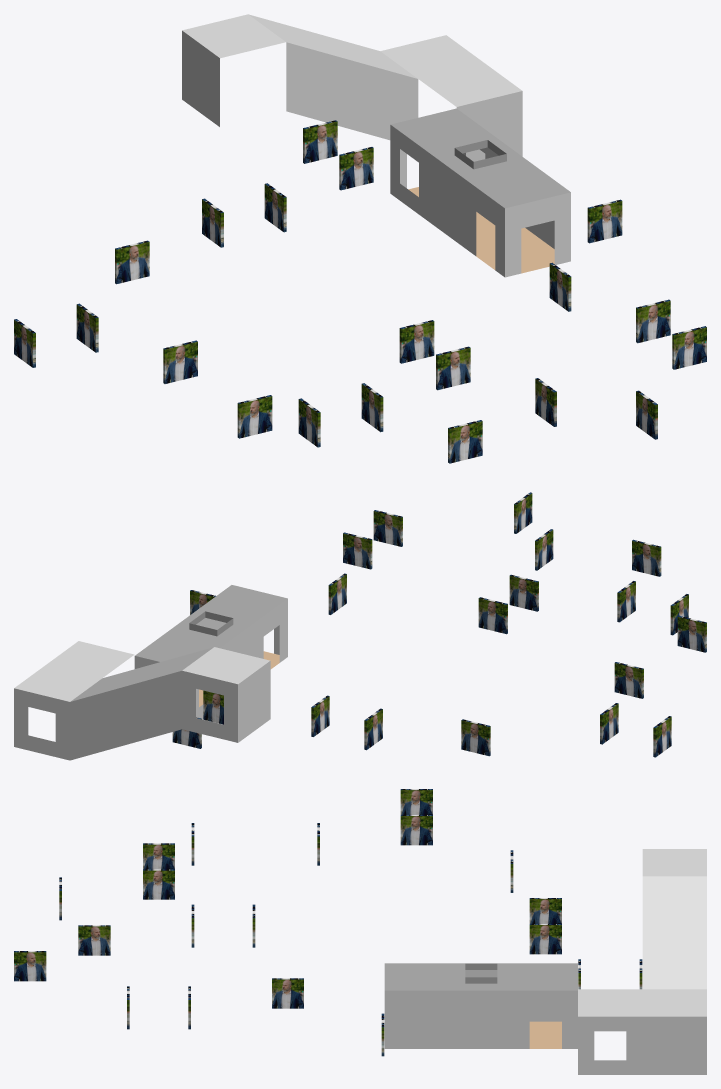
The model's file is museo.glb.
3 views of the same model, one above another, from view 1: azimuth 30°, elevation 25°; view 2: azimuth 150°, elevation 25°; view 3: azimuth 270°, elevation 25° (orthographic). The views are drawn at different scales.
Visible parts, largest first — view 1: Cube.016, Cube, web.023, web.011, web.027, web.014, web.002, web.019, web.022, web.026, web.003, web.015 (+10 smaller); view 2: Cube.016, Cube, web.019, web.030, web.014, web.023, web.026, web.015, web.027, web.022, web.002, web.004 (+9 smaller); view 3: Cube.016, Cube, web.025, web.005, web.021, web.024, web.013, web.029, web.028, web.004, web.020.
Boxes of the visible parts, bbox=[...] form: Cube.016: bbox=[182, 14, 522, 161]; Cube: bbox=[390, 108, 570, 277]; web.023: bbox=[237, 395, 272, 438]; web.011: bbox=[587, 199, 622, 243]; web.027: bbox=[399, 320, 434, 363]; web.014: bbox=[636, 299, 670, 343]; web.002: bbox=[339, 147, 373, 190]; web.019: bbox=[115, 240, 149, 284]; web.022: bbox=[163, 340, 197, 383]; web.026: bbox=[436, 346, 470, 390]; web.003: bbox=[303, 120, 337, 163]; web.015: bbox=[672, 326, 706, 369]; Cube.016: bbox=[14, 641, 270, 760]; Cube: bbox=[134, 585, 287, 719]; web.019: bbox=[461, 719, 490, 756]; web.030: bbox=[632, 539, 661, 576]; web.014: bbox=[343, 532, 372, 569]; web.023: bbox=[677, 615, 706, 652]; web.026: bbox=[509, 574, 538, 611]; web.015: bbox=[373, 510, 402, 546]; web.027: bbox=[478, 597, 507, 634]; web.022: bbox=[614, 662, 643, 698]; web.002: bbox=[203, 690, 223, 724]; web.004: bbox=[364, 708, 382, 750]; Cube.016: bbox=[578, 849, 706, 1074]; Cube: bbox=[384, 963, 577, 1048]; web.025: bbox=[78, 925, 110, 955]; web.005: bbox=[529, 924, 561, 954]; web.021: bbox=[400, 815, 432, 845]; web.024: bbox=[14, 951, 46, 981]; web.013: bbox=[272, 978, 303, 1008]; web.029: bbox=[143, 869, 174, 899]; web.028: bbox=[143, 843, 174, 869]; web.004: bbox=[529, 898, 561, 923]; web.020: bbox=[400, 789, 432, 814].
Size of the model in its own units: 35.98 by 8.08 by 43.
4 materials, 1 textured.
